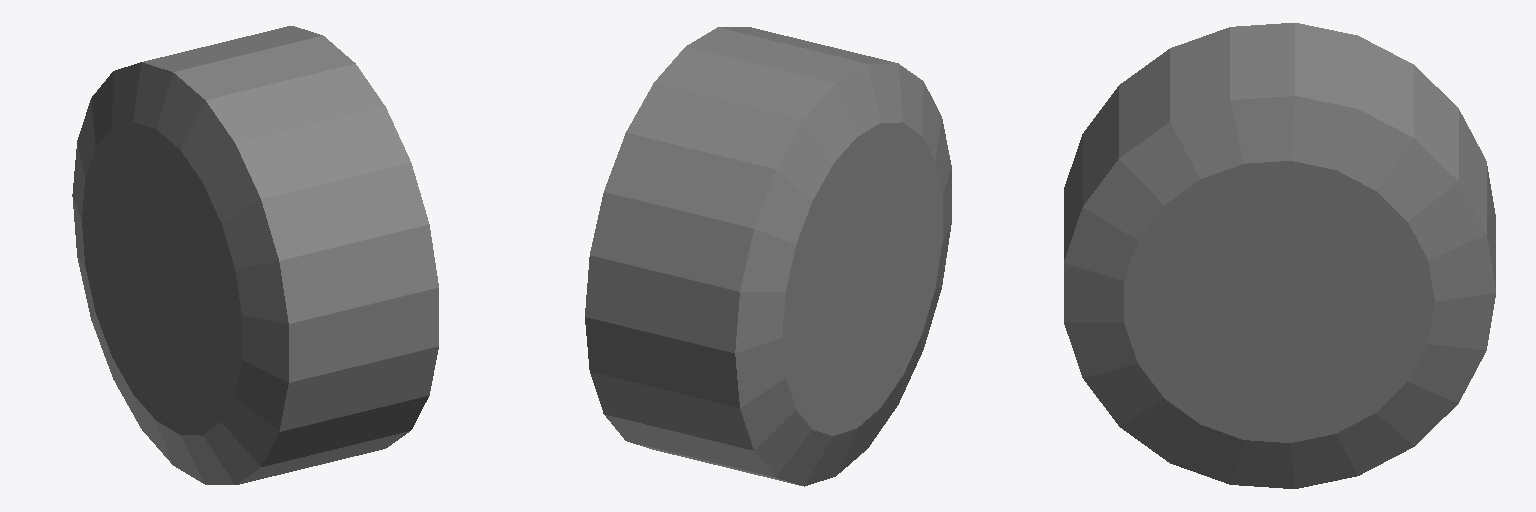
Rendered from wheel.obj.
The picture shows the model from 3 angles: view 1: azimuth 30°, elevation 25°; view 2: azimuth 150°, elevation 25°; view 3: azimuth 270°, elevation 25°; orthographic projection.
Parts seen in each view (by area): view 1: W3; view 2: W3; view 3: W3.
Boxes of the visible parts, x1=… form: W3: x1=72, y1=26, x2=438, y2=484; W3: x1=585, y1=27, x2=951, y2=486; W3: x1=1064, y1=23, x2=1495, y2=488.
Bounding box in the file's own units: 1 × 1.99 × 1.99.